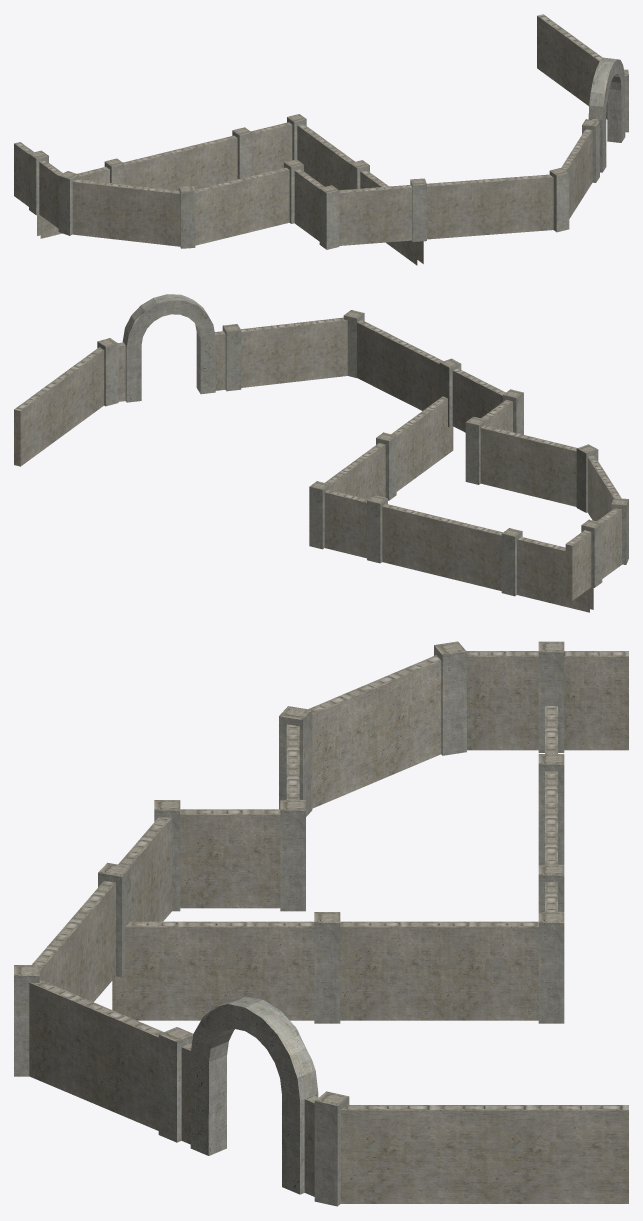
File: poi_all_corral_half_64x64_s01_l0.fbx
3 renders of one model, top to bottom at view 1: azimuth 30°, elevation 25°; view 2: azimuth 150°, elevation 25°; view 3: azimuth 270°, elevation 25°, orthographic. The views are drawn at different scales.
Visible parts, largest first — view 1: mesh_node; view 2: mesh_node; view 3: mesh_node.
Part boxes in pixels (x1,y1,x2,y2): mesh_node: (14, 14, 628, 265); mesh_node: (14, 294, 628, 612); mesh_node: (14, 641, 628, 1206).
Size of the model in its own units: 42.57 by 9 by 23.81.
